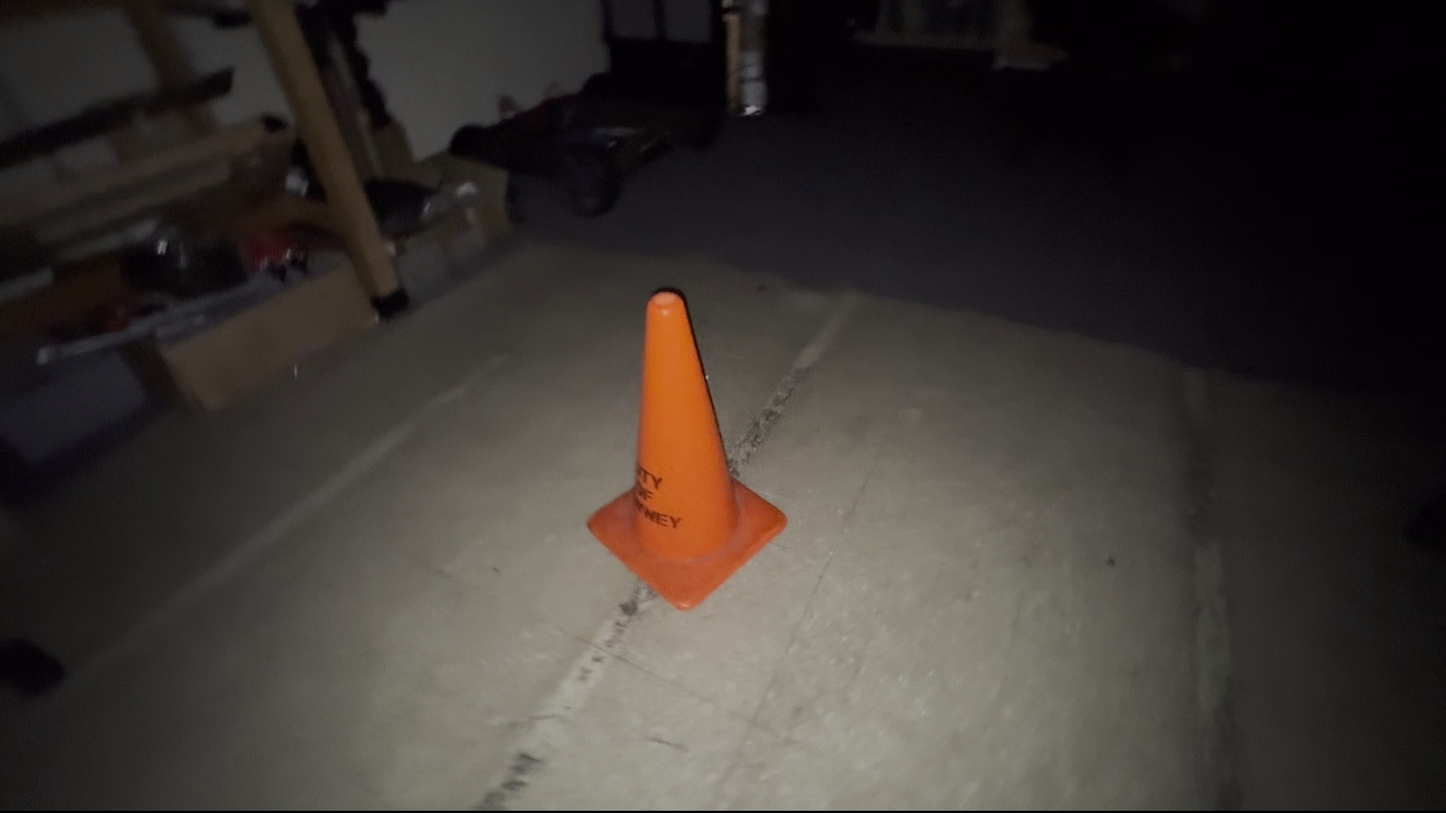traffic_cone: (585, 286, 789, 612)
